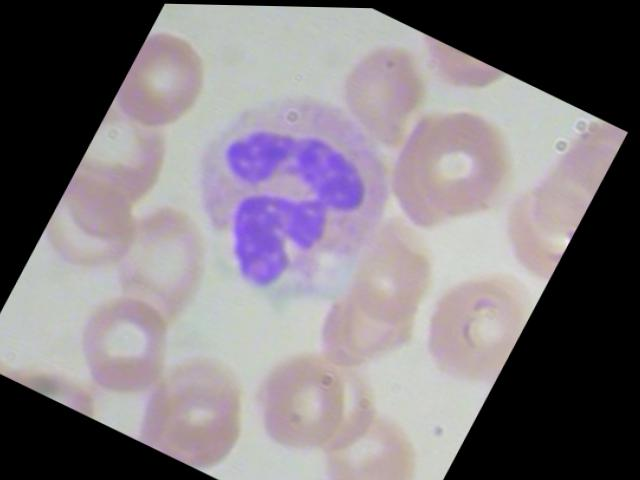Red Blood Cells: (377, 83, 539, 251), (400, 243, 550, 393), (61, 276, 202, 411), (109, 11, 230, 142), (324, 33, 448, 151), (302, 387, 451, 479), (242, 466, 347, 479)
White Blood Cells: (144, 52, 436, 334)
